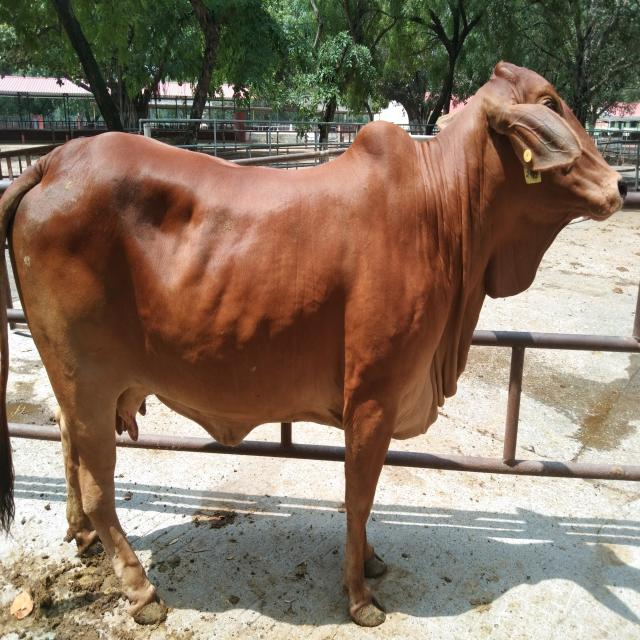Hoof: (130, 585, 168, 626), (349, 598, 386, 627), (364, 553, 387, 578)
